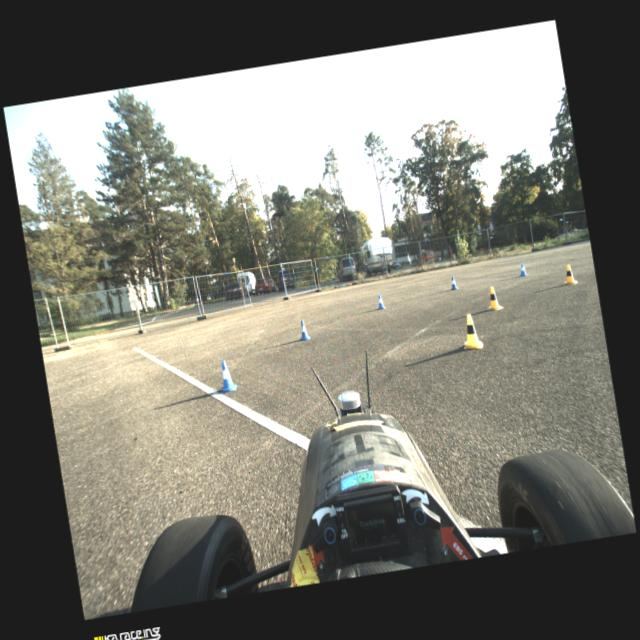blue_cone: (215, 360, 238, 392), (297, 319, 311, 341), (376, 294, 386, 310), (448, 275, 458, 290), (518, 262, 528, 276)
yellow_cone: (459, 312, 484, 350), (484, 286, 504, 312), (562, 264, 578, 286)
